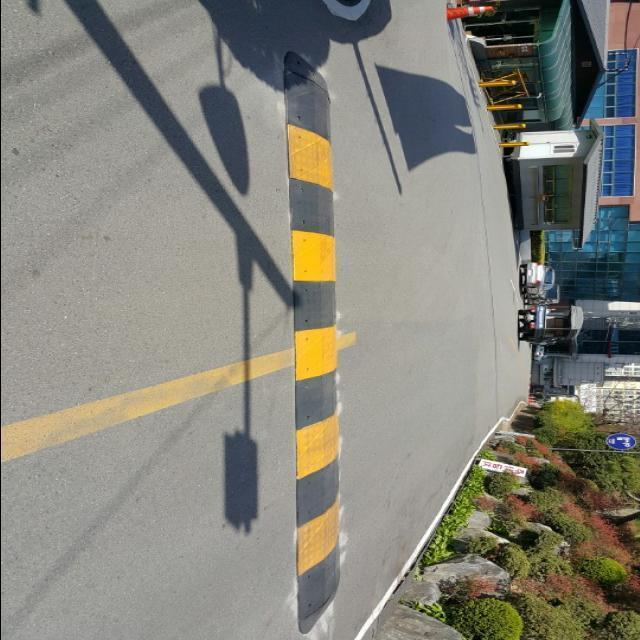speedbreaker: (270, 42, 356, 640)
